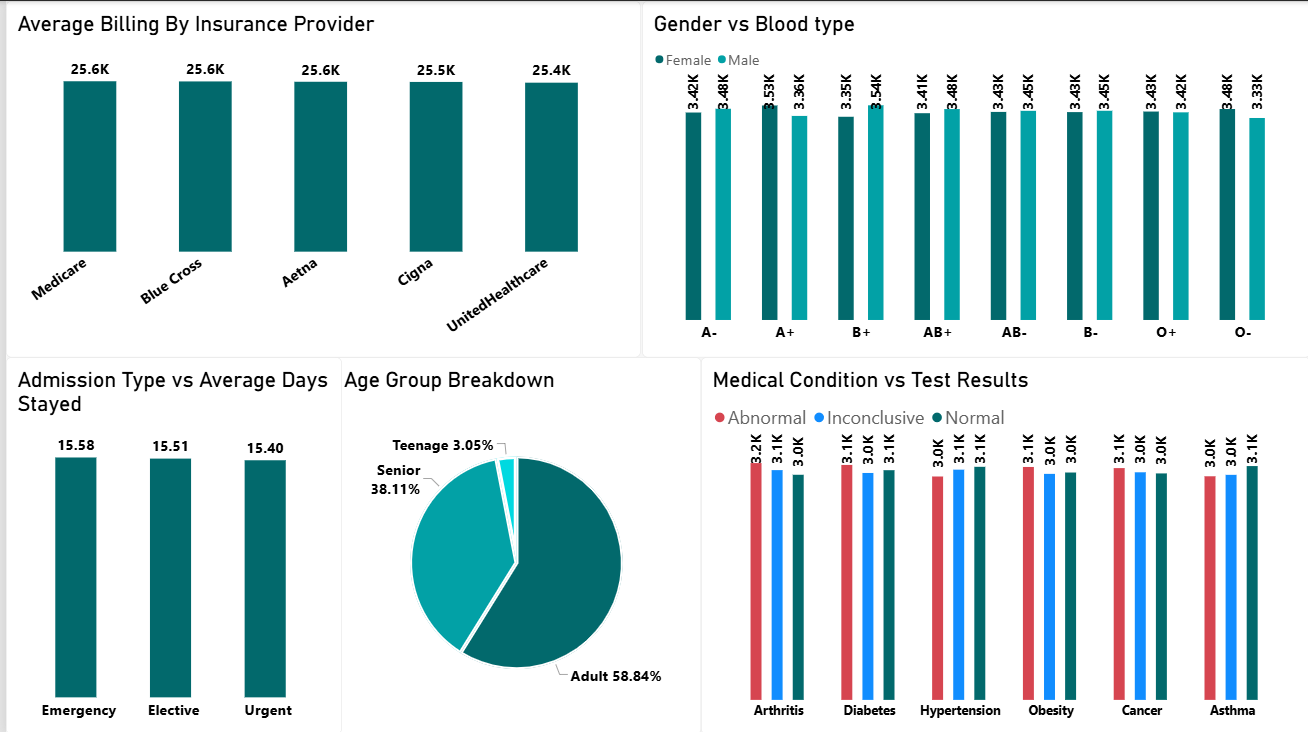

What the dashboard file says about the page in this screenshot:
{"tool":"powerbi","page":{"name":"Page 2","canvas":[1920,1080],"ordinal":1},"visuals":[{"type":"pieChart","title":"Age Group Breakdown","fields":{"Category":["Sheet1.Age_Group"],"Y":["CountNonNull(Sheet1.Name)"]},"box":[479.6,524.8,542.9,555.6],"z":0},{"type":"clusteredColumnChart","title":"Gender vs Blood type","fields":{"Category":["Sheet1.Blood_Type"],"Y":["CountNonNull(Sheet1.Name)"],"Series":["Sheet1.Gender"]},"box":[936.4,0,984.1,525],"z":1000},{"type":"clusteredColumnChart","title":"Admission Type vs Average Days Stayed ","fields":{"Category":["Sheet1.Admission_Type"],"Y":["Avg(Sheet1.Days_Stayed)"]},"box":[0,524.8,494,555.6],"z":2000},{"type":"columnChart","title":"Average Billing By Insurance Provider","fields":{"Category":["Sheet1.Insurance_Provider"],"Y":["Avg(Sheet1.Billing_Amount)"]},"box":[0,0,934.5,524.9],"z":3000},{"type":"clusteredColumnChart","title":"Medical Condition vs Test Results","fields":{"Category":["Sheet1.Medical_Condition"],"Y":["CountNonNull(Sheet1.Name)"],"Series":["Sheet1.Test_Results"]},"box":[1022.5,524.8,897.6,555.6],"z":8000}]}

Visuals, with their boxes in screenshot pixels (x1, y1, x2, y2), scaled from the page's 1920x1080 canvas onto the 1308x732 screenshot:
"Age Group Breakdown" pieChart: crop(327, 356, 697, 731)
"Gender vs Blood type" clusteredColumnChart: crop(638, 0, 1307, 356)
"Admission Type vs Average Days Stayed " clusteredColumnChart: crop(0, 356, 337, 731)
"Average Billing By Insurance Provider" columnChart: crop(0, 0, 637, 356)
"Medical Condition vs Test Results" clusteredColumnChart: crop(697, 356, 1307, 731)
